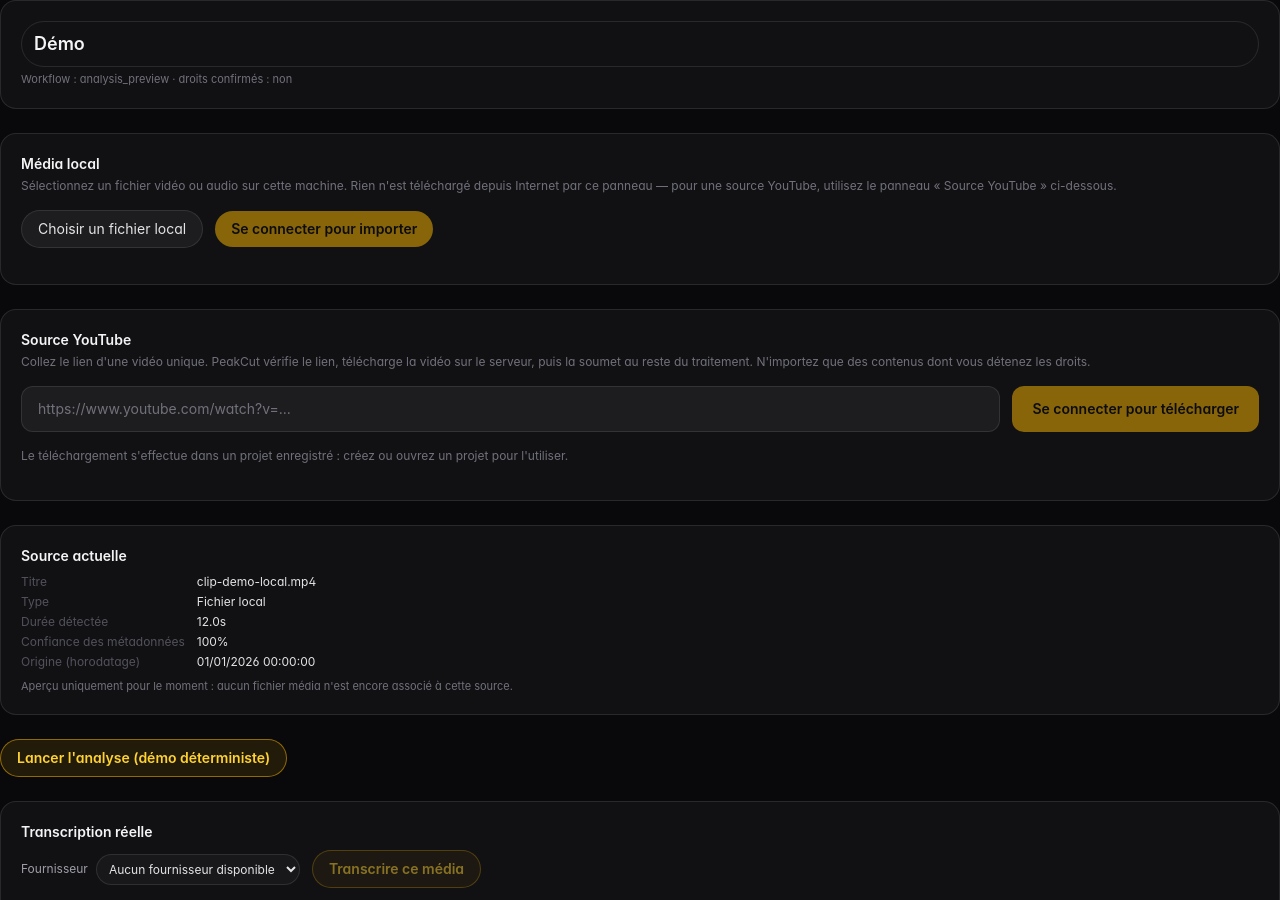
Test: StudioSection › keeps the public demo readable but gates analysis behind the account dialog
Click the button "Lancer l'analyse (démo déterministe)".
click(144, 758)  # box [0,739,287,777]
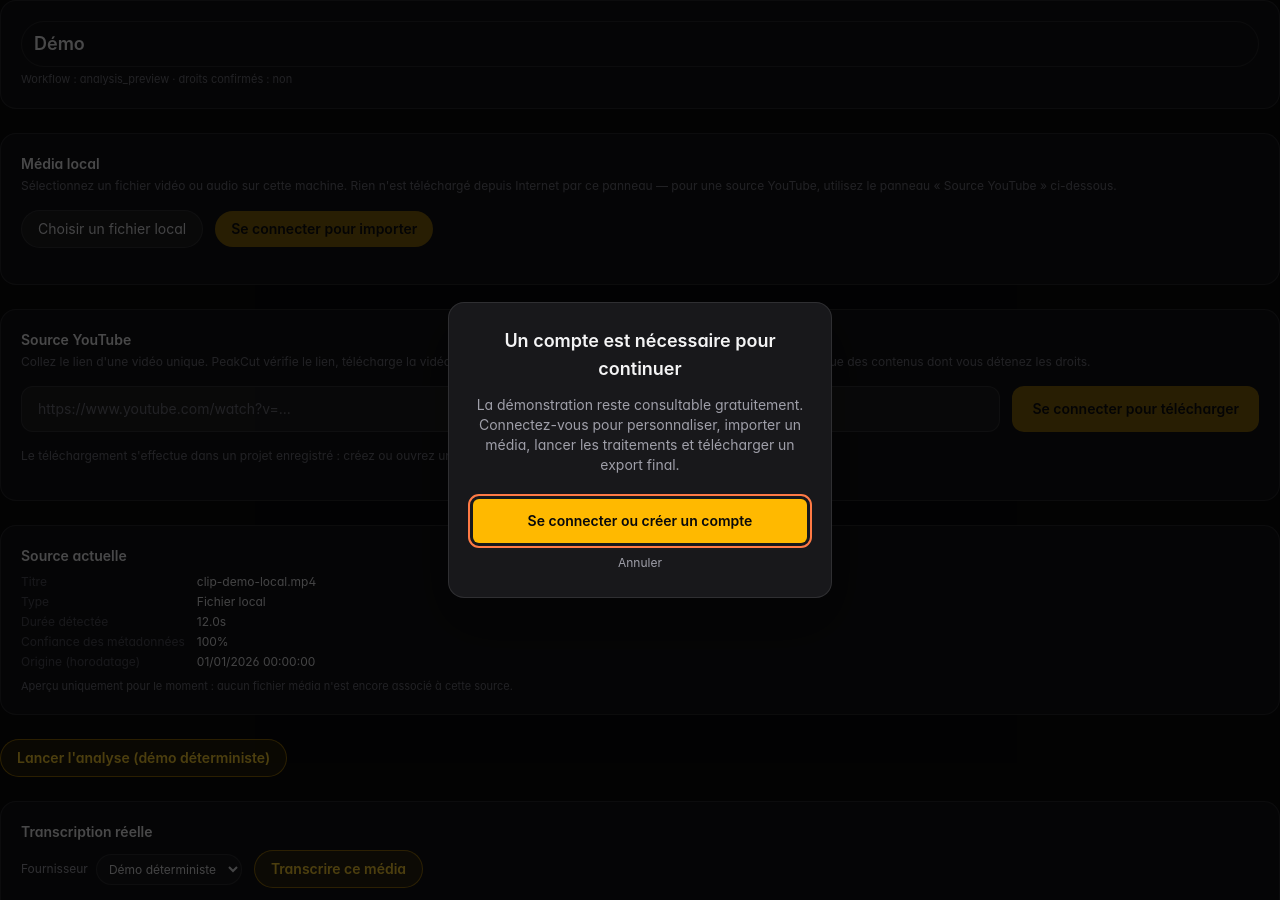
Expected: the dialog "compte est nécessaire" is shown
